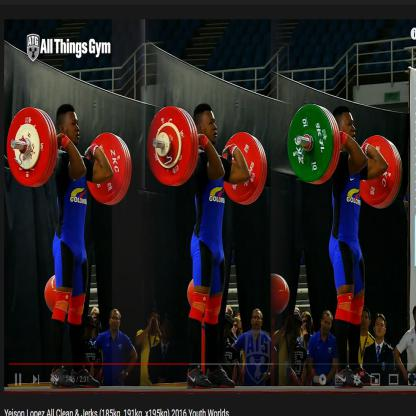Barbell: (3, 100, 62, 197), (143, 98, 201, 192), (284, 100, 343, 191)
